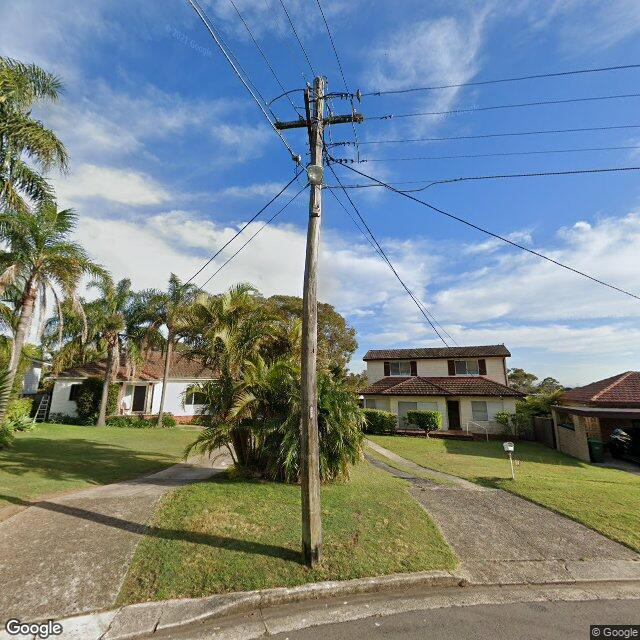crossarm: (273, 112, 363, 130), (304, 88, 312, 150)
timber-pole: (300, 76, 325, 568)
